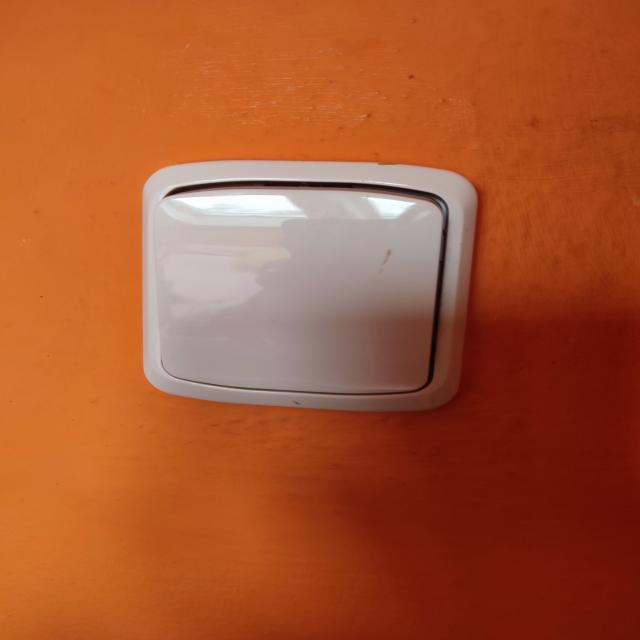house switch: (142, 159, 479, 412)
